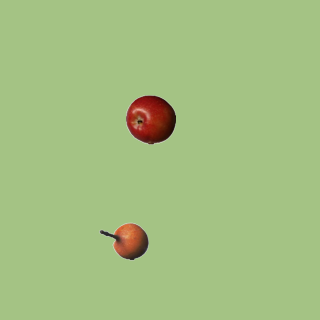Apple Braeburn: (125, 94, 175, 144)
Granadilla: (98, 216, 148, 266)
